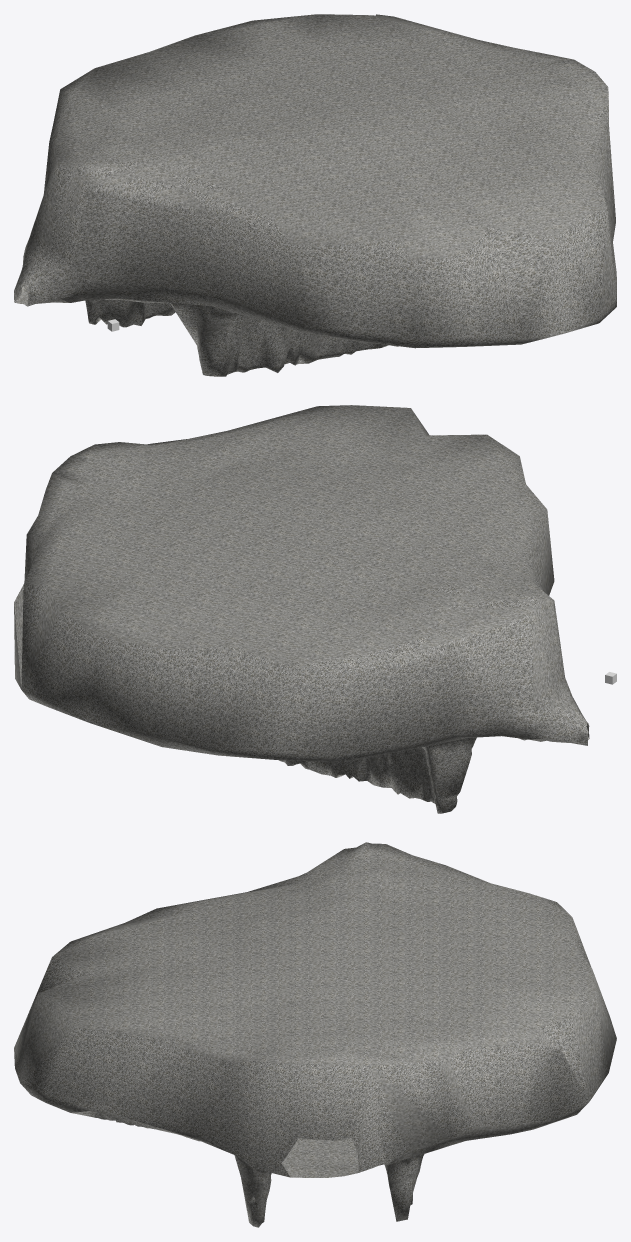
The model's file is Big Cave Flat ground 03.FBX.
3 renders of one model, top to bottom at view 1: azimuth 30°, elevation 25°; view 2: azimuth 150°, elevation 25°; view 3: azimuth 270°, elevation 25°, orthographic. The views are drawn at different scales.
Parts seen in each view (by area): view 1: Big cave walls, Big cave floor first half; view 2: Big cave walls, Big cave floor first half; view 3: Big cave walls, Big cave floor second half.
Boxes of the visible parts, bbox=[...] form: Big cave walls: bbox=[14, 14, 616, 348]; Big cave floor first half: bbox=[14, 286, 397, 376]; Big cave walls: bbox=[14, 405, 589, 762]; Big cave floor first half: bbox=[278, 735, 589, 813]; Big cave walls: bbox=[14, 842, 616, 1173]; Big cave floor second half: bbox=[72, 1110, 440, 1227].
Bounding box in the file's own units: 132619 × 48591 × 137892.
